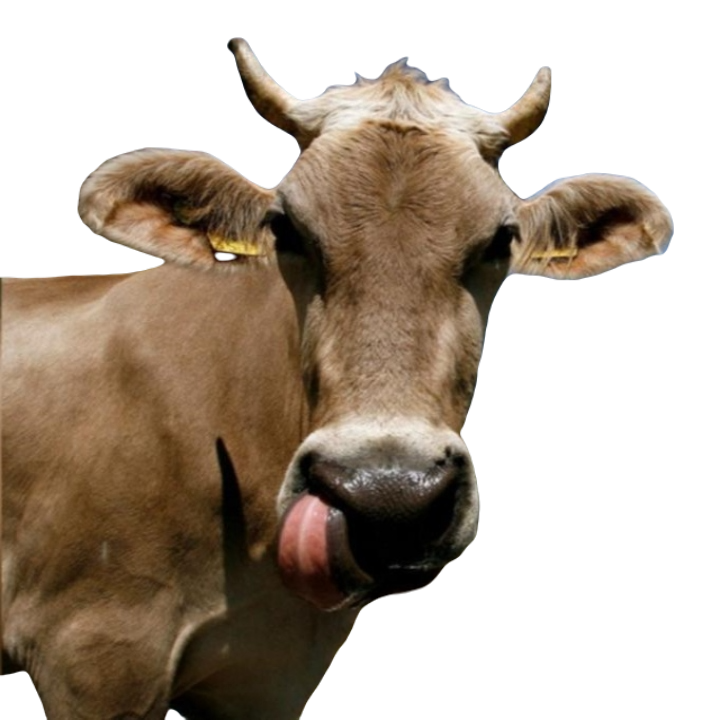Cow: (0, 37, 671, 719)
